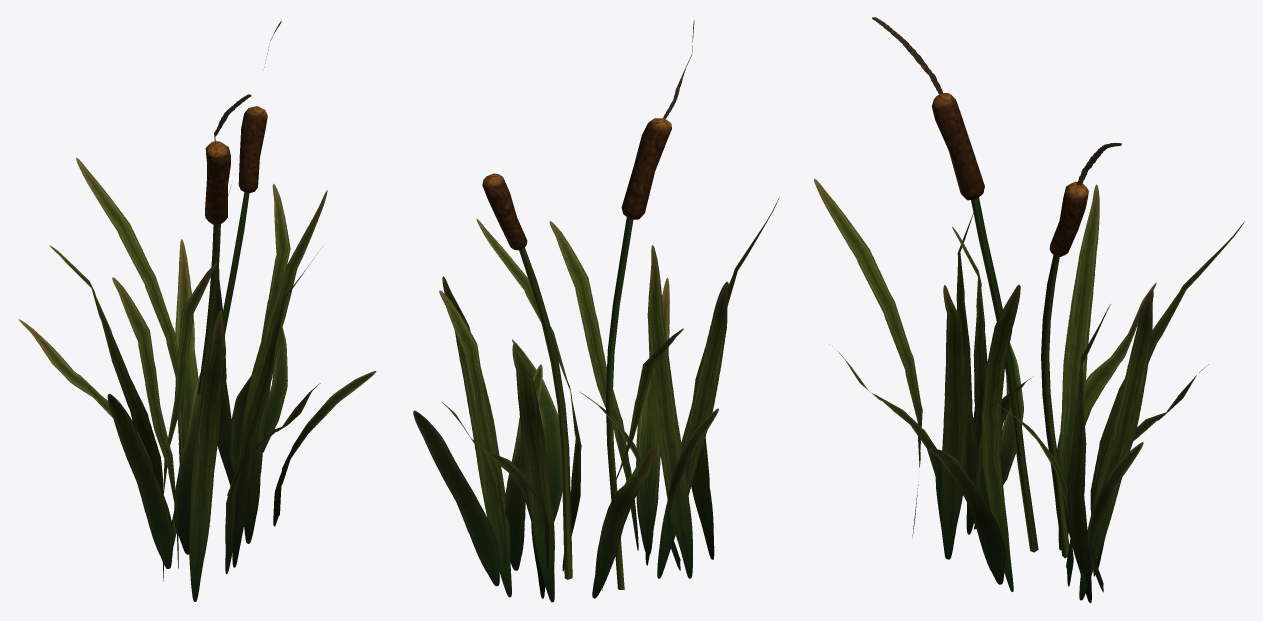
File: Reeds_3.fbx
3 renders of one model, left to right at view 1: azimuth 30°, elevation 25°; view 2: azimuth 150°, elevation 25°; view 3: azimuth 270°, elevation 25°, orthographic. The views are drawn at different scales.
Parts seen in each view (by area): view 1: Reeds_3; view 2: Reeds_3; view 3: Reeds_3.
Part boxes in pixels (box(x1,y1,x2,y2)): Reeds_3: box(18, 20, 376, 601); Reeds_3: box(413, 20, 779, 602); Reeds_3: box(814, 17, 1244, 602).
Bounding box in the file's own units: 1.53 × 2.98 × 2.13.
